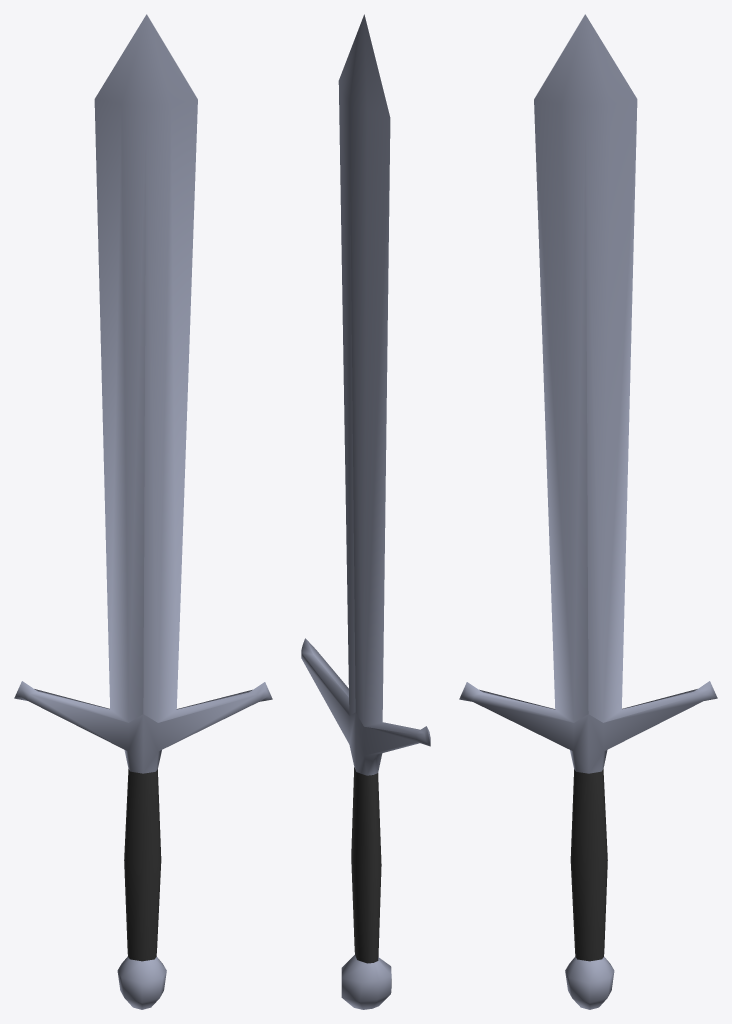
The model's file is steel_2hd.glb.
3 views of the same model, side by side, from view 1: azimuth 90°, elevation 25°; view 2: azimuth 210°, elevation 25°; view 3: azimuth 270°, elevation 25° (orthographic).
Visible parts, largest first — view 1: steel2hd sword; view 2: steel2hd sword; view 3: steel2hd sword.
Part boxes in pixels (left/top/right/bottom): steel2hd sword: left=14, top=14, right=272, bottom=1009; steel2hd sword: left=301, top=14, right=430, bottom=1009; steel2hd sword: left=459, top=14, right=717, bottom=1009.
Bounding box in the file's own units: 0.0473 × 0.8927 × 0.2115.
